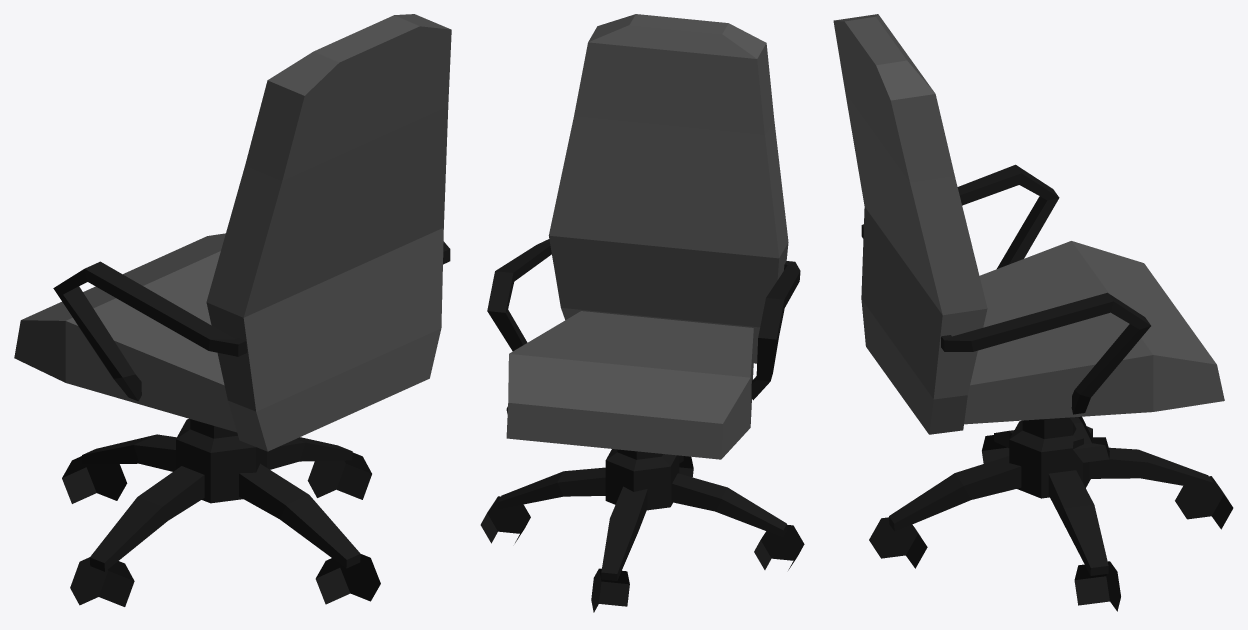
Rendered from ghemaytinh.001.fbx.
3 views of the same model, side by side, from view 1: azimuth 30°, elevation 25°; view 2: azimuth 150°, elevation 25°; view 3: azimuth 270°, elevation 25° (orthographic). The views are drawn at different scales.
Visible parts, largest first — view 1: ghemaytinh.001; view 2: ghemaytinh.001; view 3: ghemaytinh.001.
Part boxes in pixels (box(x1,y1,x2,y2)): ghemaytinh.001: box(14, 14, 451, 606); ghemaytinh.001: box(480, 14, 804, 612); ghemaytinh.001: box(833, 14, 1233, 611).
Bounding box in the file's own units: 130 × 205 × 142.
